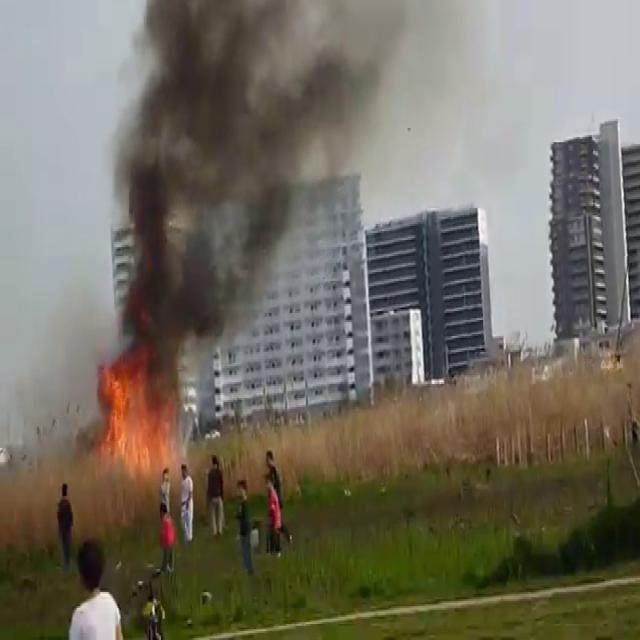Fire: (90, 354, 182, 480)
Smoke: (101, 0, 390, 377)
